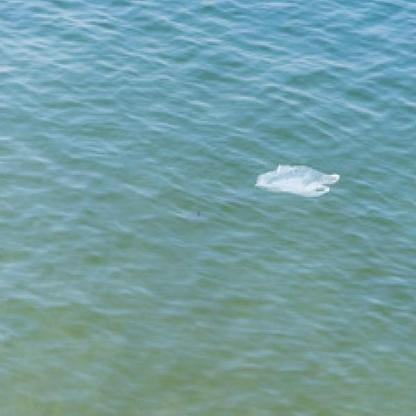plastic bag: (255, 162, 341, 201)
